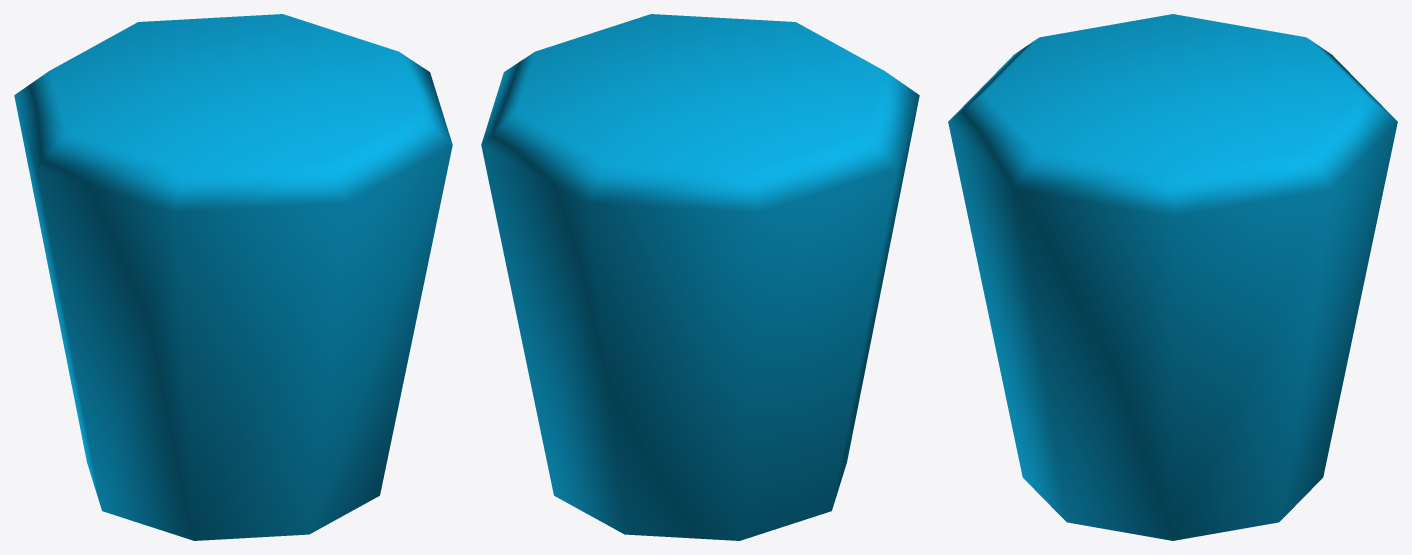
File: Potion_01_Cork3.fbx
3 renders of one model, left to right at view 1: azimuth 30°, elevation 25°; view 2: azimuth 150°, elevation 25°; view 3: azimuth 270°, elevation 25°, orthographic.
Visible parts, largest first — view 1: Potion_01_Cork3; view 2: Potion_01_Cork3; view 3: Potion_01_Cork3.
Boxes of the visible parts, bbox=[...] form: Potion_01_Cork3: bbox=[14, 14, 452, 540]; Potion_01_Cork3: bbox=[481, 14, 919, 540]; Potion_01_Cork3: bbox=[948, 14, 1397, 540].
Size of the model in its own units: 5.64 by 5.3 by 5.64.
